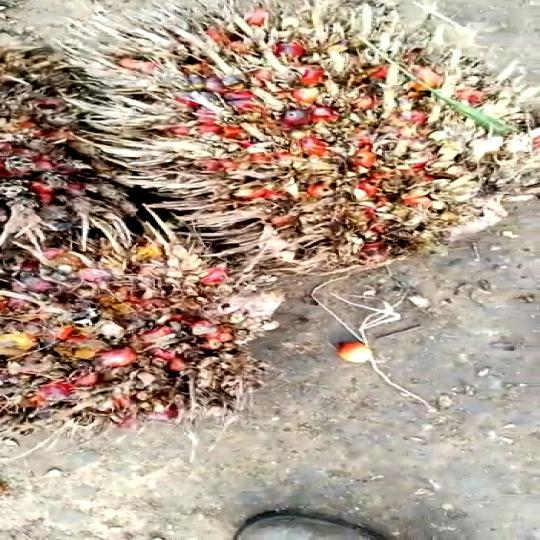terlalu masak: (71, 12, 540, 279)
